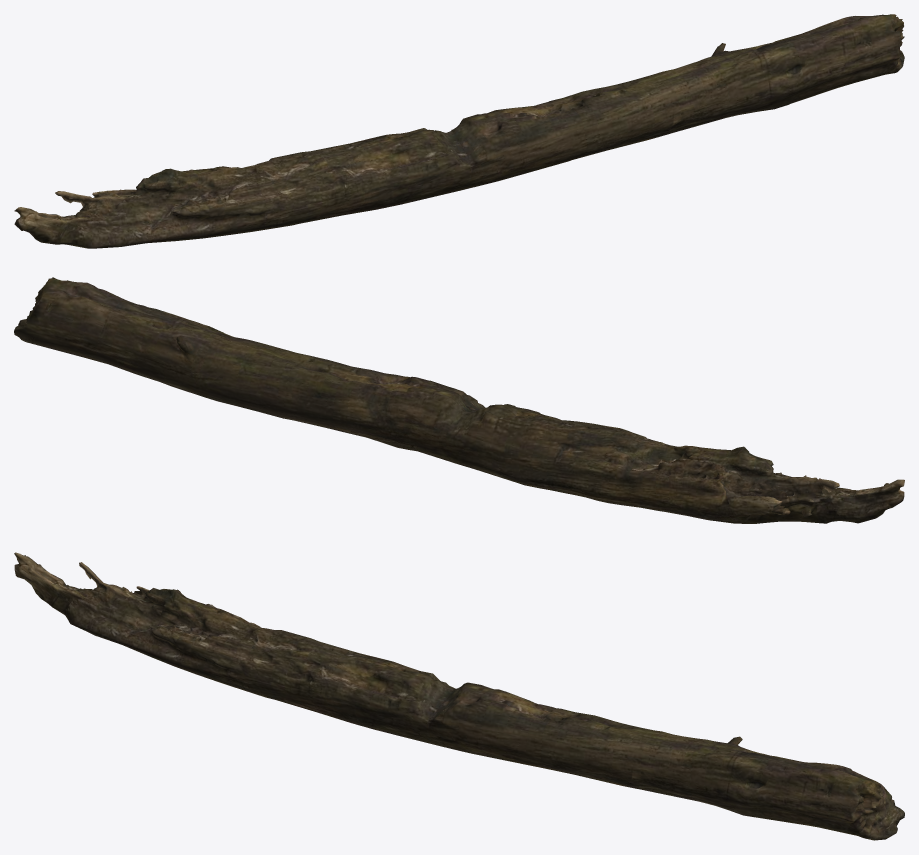
File: dead_tree_trunk.glb
3 views of the same model, one above another, from view 1: azimuth 30°, elevation 25°; view 2: azimuth 150°, elevation 25°; view 3: azimuth 330°, elevation 25° (orthographic).
Bounding box in the file's own units: 3.05 × 0.2899 × 0.2774.
1 material, 1 textured.
